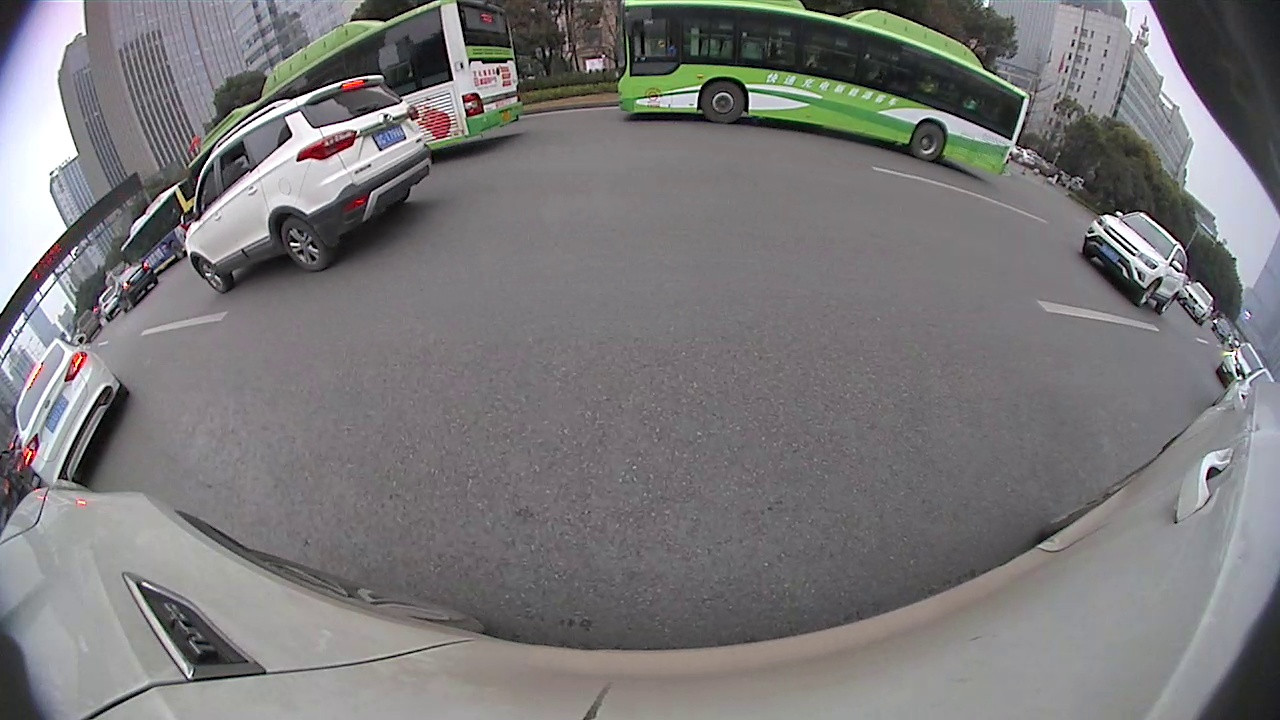bus: (613, 0, 1035, 188), (183, 2, 528, 181)
car: (181, 72, 435, 296), (11, 333, 131, 489), (1078, 208, 1189, 317)
front: (701, 78, 746, 126), (195, 257, 228, 297)
rear: (279, 216, 327, 273), (909, 121, 947, 163)
